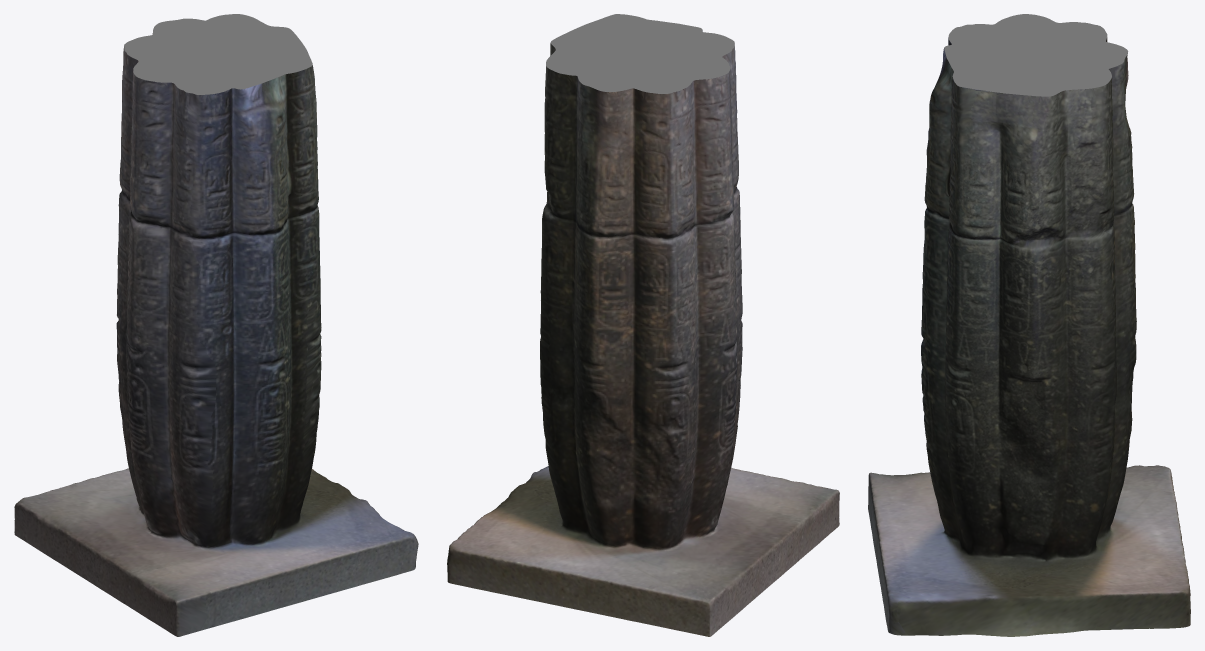
The model's file is grey_granite_papyrus-column_lower_section.glb.
The picture shows the model from 3 angles, left to right: view 1: azimuth 30°, elevation 25°; view 2: azimuth 150°, elevation 25°; view 3: azimuth 270°, elevation 25°; orthographic projection. The views are drawn at different scales.
Parts seen in each view (by area): view 1: Object_3, Object_2; view 2: Object_3, Object_2; view 3: Object_3, Object_2.
Part boxes in pixels (x1,y1,x2,y2): Object_3: (14,33,418,636); Object_2: (124,14,312,94); Object_3: (447,30,839,636); Object_2: (546,14,734,93); Object_3: (868,37,1190,636); Object_2: (944,14,1128,96).
Bounding box in the file's own units: 16.82 × 29.23 × 16.71.
1 material, 1 textured.
